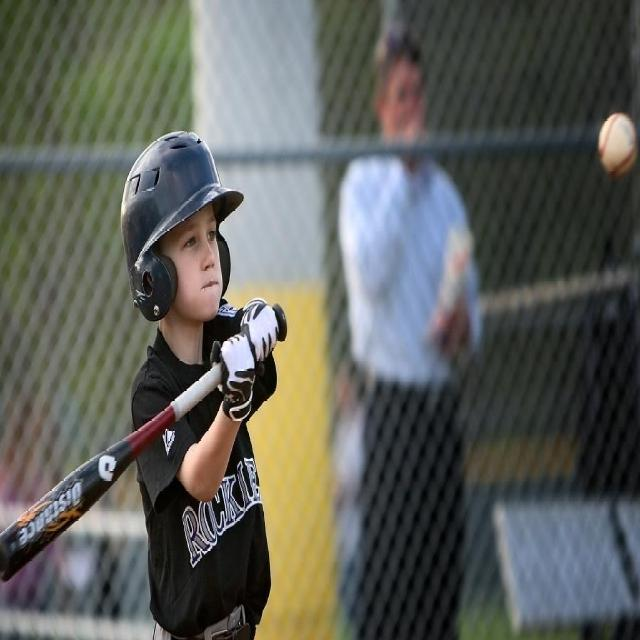baseball bat: (1, 362, 229, 584)
sports ball: (595, 111, 637, 179)
